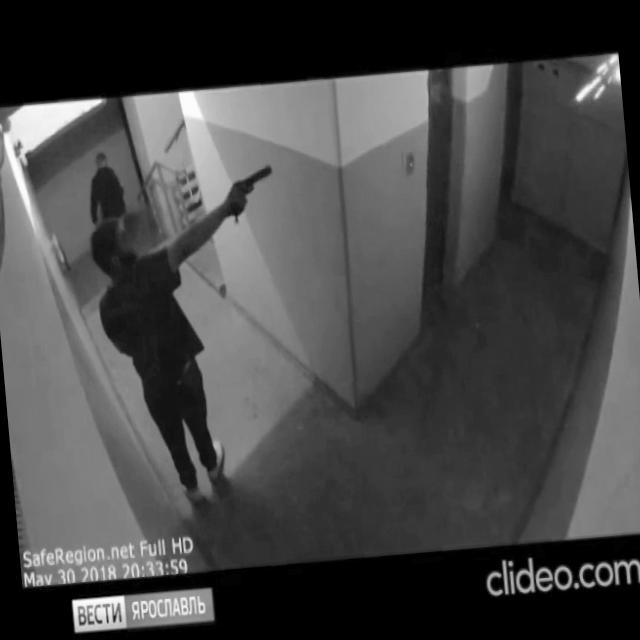gun: (226, 162, 278, 218)
person: (83, 146, 136, 272)
person with a gun: (83, 160, 305, 514)
